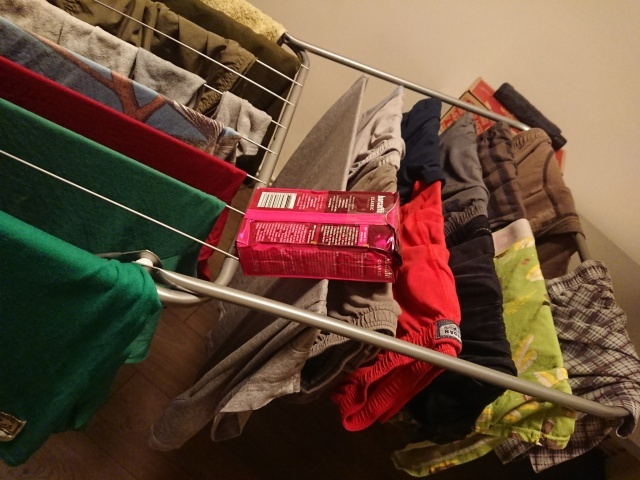Barcaffe Classic Original 225g: (232, 184, 404, 287)
